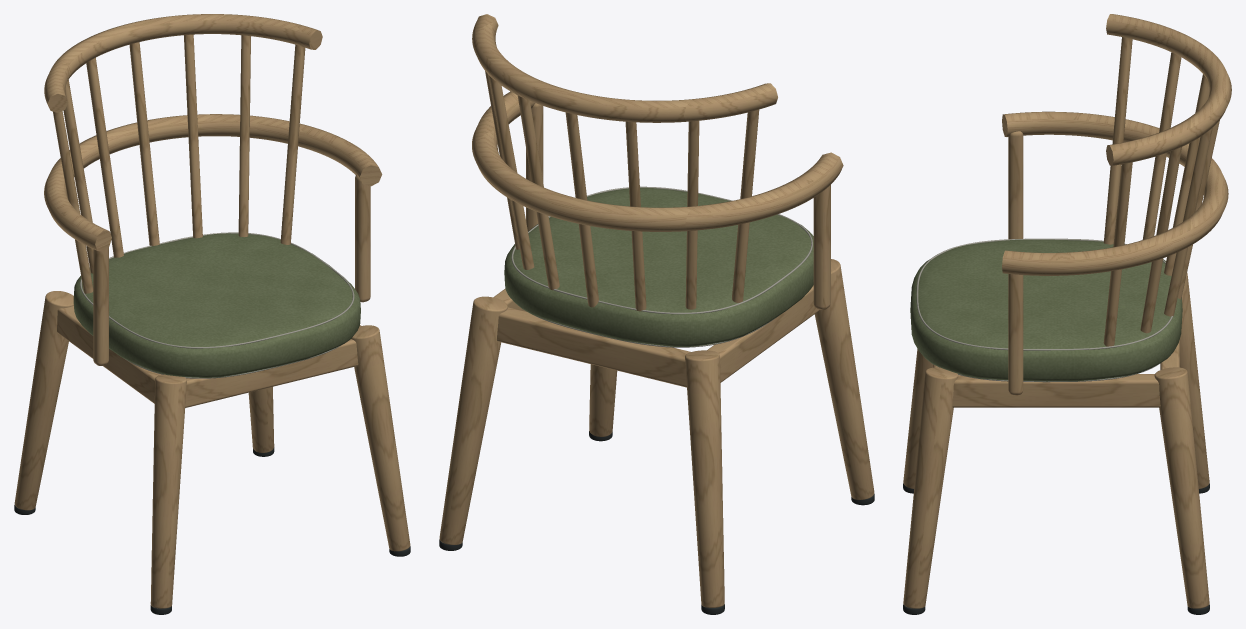
File: dining-chair.glb
3 renders of one model, left to right at view 1: azimuth 30°, elevation 25°; view 2: azimuth 150°, elevation 25°; view 3: azimuth 270°, elevation 25°, orthographic. The views are drawn at different scales.
Parts seen in each view (by area): view 1: Seat | rounded bistro pad, Bent ash | horseshoe arm, Bent ash | back crest, Frame | tapered leg, Frame | tapered leg.002, Frame | tapered leg.001, Frame | cross apron, Frame | side apron, Ash | bowed back spindle.003, Ash | bowed back spindle.002, Ash | bowed back spindle.006, Ash | bowed back spindle.004 (+7 smaller); view 2: Seat | rounded bistro pad, Bent ash | horseshoe arm, Bent ash | back crest, Frame | tapered leg.001, Frame | tapered leg.003, Frame | cross apron.001, Frame | tapered leg, Frame | side apron, Ash | front arm post, Ash | bowed back spindle.003, Ash | bowed back spindle, Ash | bowed back spindle.004 (+6 smaller); view 3: Seat | rounded bistro pad, Bent ash | horseshoe arm, Frame | tapered leg.003, Frame | tapered leg.002, Bent ash | back crest, Frame | side apron.001, Frame | tapered leg.001, Ash | bowed back spindle, Ash | front arm post.001, Ash | bowed back spindle.001, Ash | bowed back spindle.006, Ash | bowed back spindle.005 (+6 smaller).
Boxes of the visible parts, bbox=[...] form: Seat | rounded bistro pad: bbox=[73, 233, 360, 377]; Bent ash | horseshoe arm: bbox=[44, 114, 382, 251]; Bent ash | back crest: bbox=[44, 14, 322, 112]; Frame | tapered leg: bbox=[150, 374, 186, 608]; Frame | tapered leg.002: bbox=[351, 325, 410, 551]; Frame | tapered leg.001: bbox=[14, 291, 73, 510]; Frame | cross apron: bbox=[185, 339, 358, 407]; Frame | side apron: bbox=[57, 306, 161, 403]; Ash | bowed back spindle.003: bbox=[129, 42, 159, 246]; Ash | bowed back spindle.002: bbox=[86, 57, 123, 257]; Ash | bowed back spindle.006: bbox=[280, 44, 305, 244]; Ash | bowed back spindle.004: bbox=[184, 34, 202, 238]; Seat | rounded bistro pad: bbox=[504, 187, 813, 346]; Bent ash | horseshoe arm: bbox=[472, 91, 843, 231]; Bent ash | back crest: bbox=[472, 14, 777, 122]; Frame | tapered leg.001: bbox=[685, 350, 724, 607]; Frame | tapered leg.003: bbox=[439, 296, 507, 544]; Frame | cross apron.001: bbox=[497, 307, 690, 387]; Frame | tapered leg: bbox=[814, 259, 874, 499]; Frame | side apron: bbox=[707, 285, 819, 382]; Ash | front arm post: bbox=[813, 185, 830, 309]; Ash | bowed back spindle.003: bbox=[565, 112, 598, 307]; Ash | bowed back spindle: bbox=[732, 109, 759, 302]; Ash | bowed back spindle.004: bbox=[517, 95, 559, 290]; Seat | rounded bistro pad: bbox=[910, 239, 1182, 381]; Bent ash | horseshoe arm: bbox=[1002, 111, 1228, 275]; Frame | tapered leg.003: bbox=[1154, 367, 1209, 608]; Frame | tapered leg.002: bbox=[903, 367, 958, 608]; Bent ash | back crest: bbox=[1106, 14, 1231, 165]; Frame | side apron.001: bbox=[952, 374, 1160, 407]; Frame | tapered leg.001: bbox=[1180, 272, 1209, 488]; Ash | bowed back spindle: bbox=[1103, 37, 1132, 244]; Ash | front arm post.001: bbox=[1008, 274, 1023, 395]; Ash | bowed back spindle.001: bbox=[1142, 52, 1181, 239]; Ash | bowed back spindle.006: bbox=[1103, 162, 1132, 346]; Ash | bowed back spindle.005: bbox=[1140, 147, 1181, 333].
Bounding box in the file's own units: 0.6439 × 0.932 × 0.5905.
Materials: 4 (2 with a texture image).
